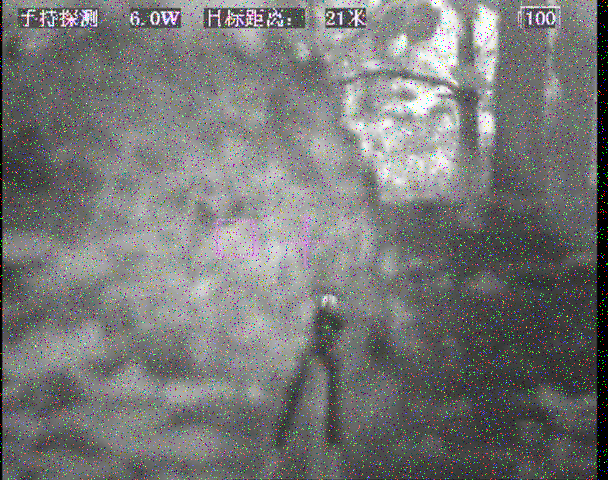my: (318, 291, 339, 311)
